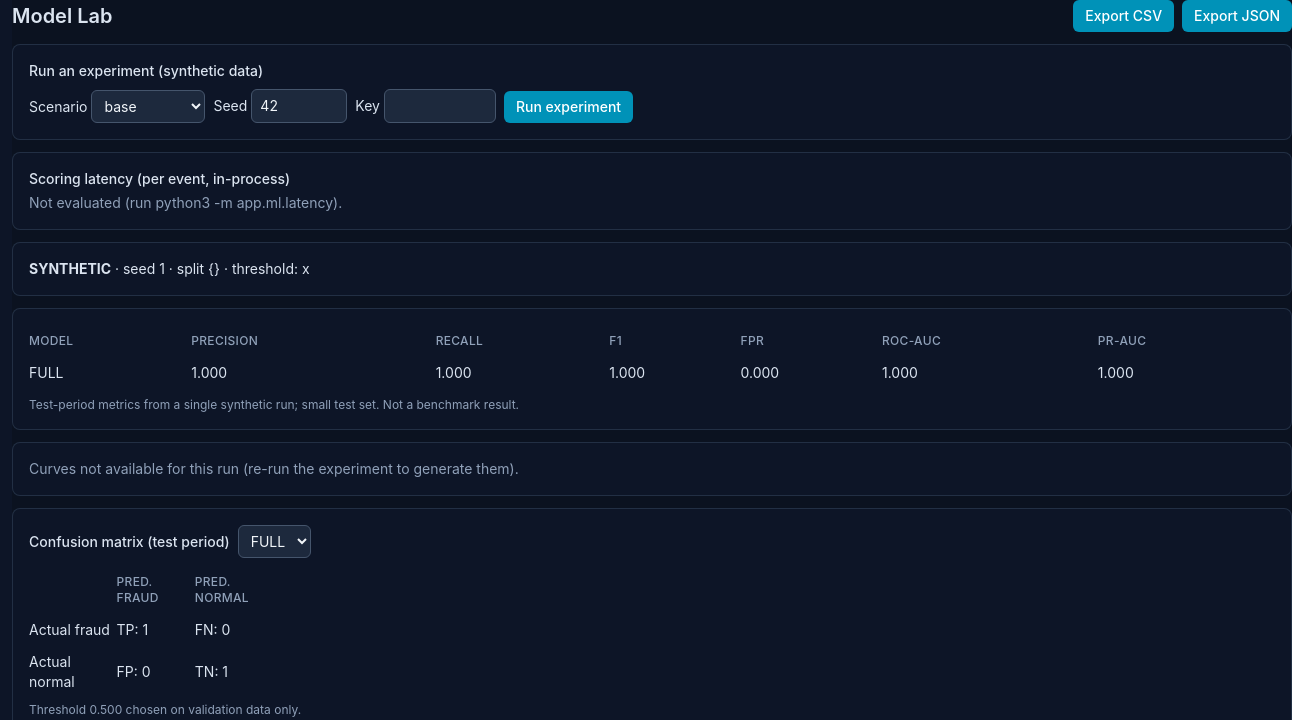
Test case: ModelLab experiments › launches an experiment with the chosen scenario, seed and key
This screenshot has width=1292, height=720.
Check: the text "Curves not available" is shown, box x1=29 y1=460 x2=519 y2=477
Select "decay_hard" in the dropdown labelled "Scenario". click: (148, 106)
box: x1=92 y1=90 x2=206 y2=123
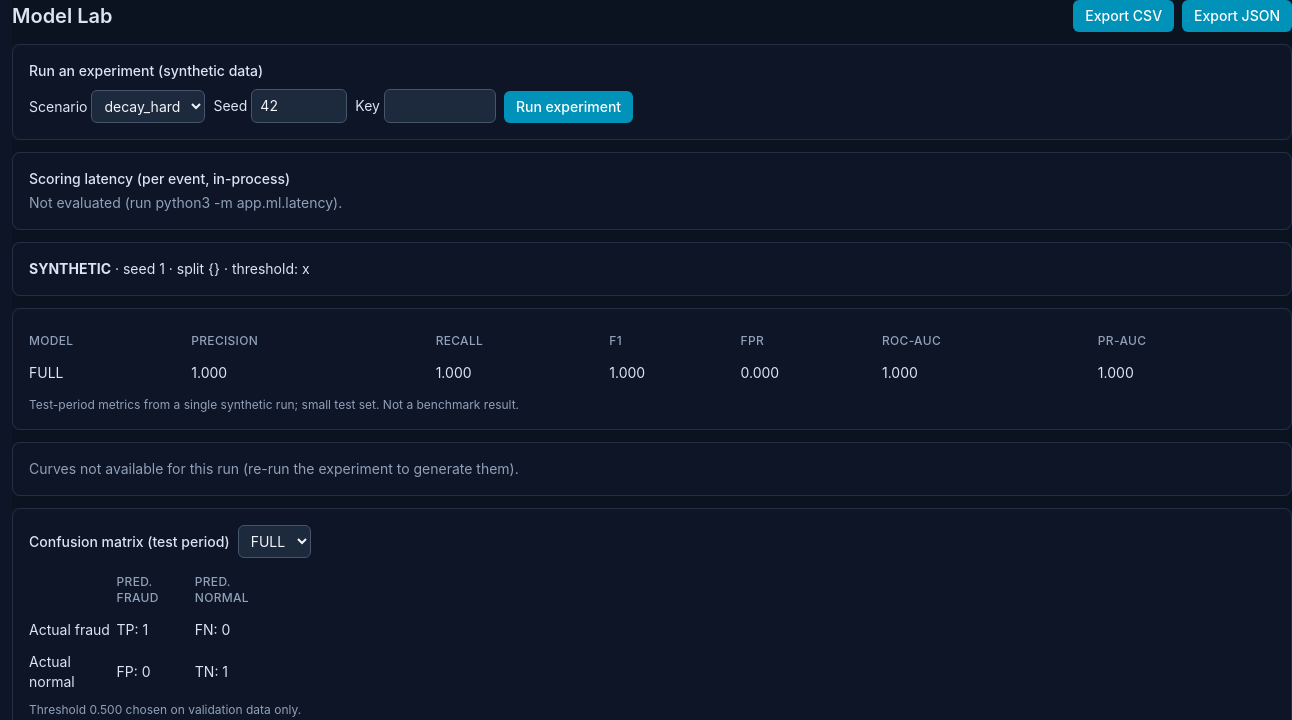
Replace the text in the number field labelled "Seed" with "7". click: (299, 106)
box: x1=251 y1=89 x2=347 y2=123
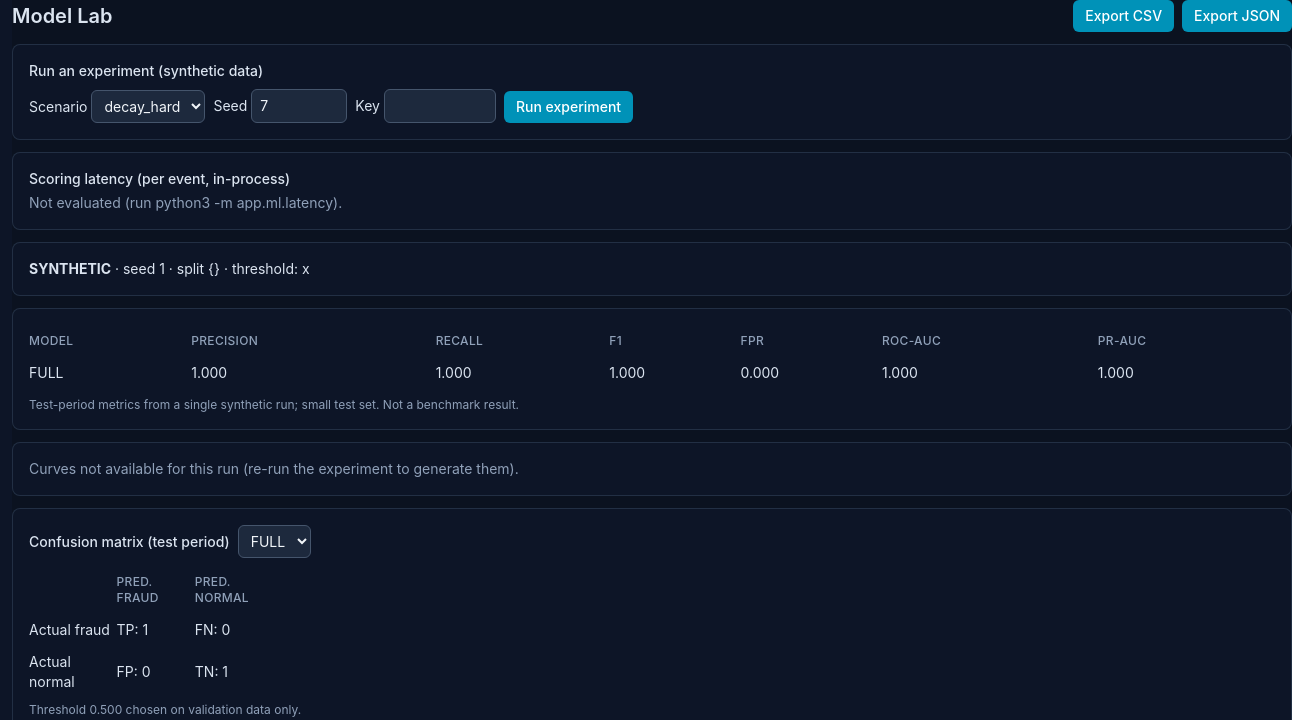
Type "k" into the password field named "API key". click: (440, 106)
box: x1=384 y1=89 x2=496 y2=123
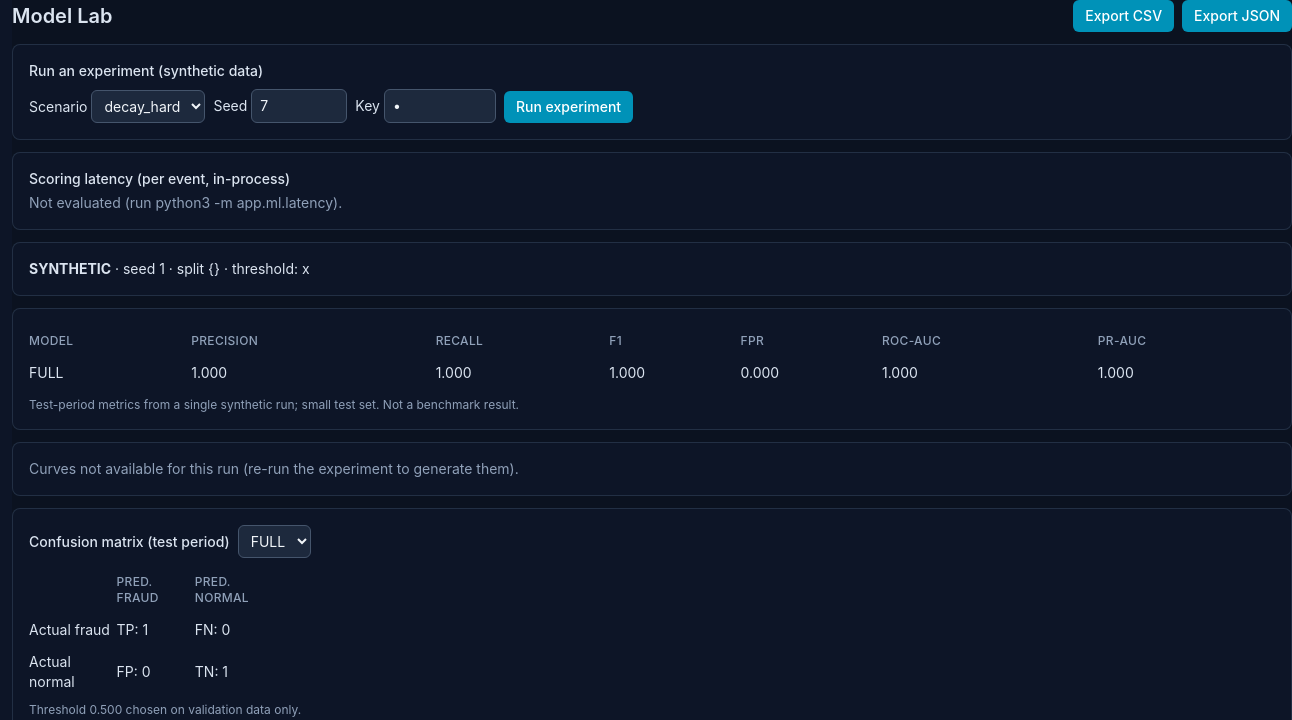
Click the button "Run experiment". click: click(569, 107)
box: x1=504 y1=91 x2=633 y2=123
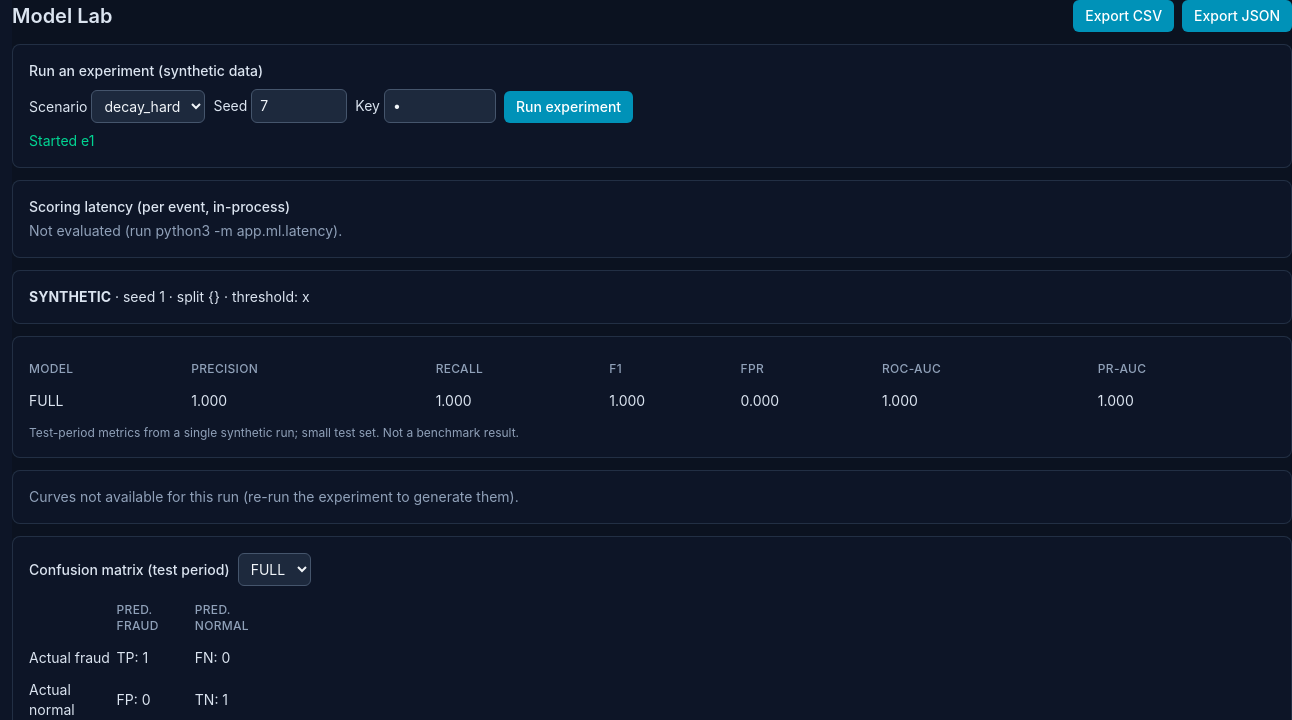
Check: the text "Started e1" is shown, box x1=29 y1=132 x2=94 y2=149
